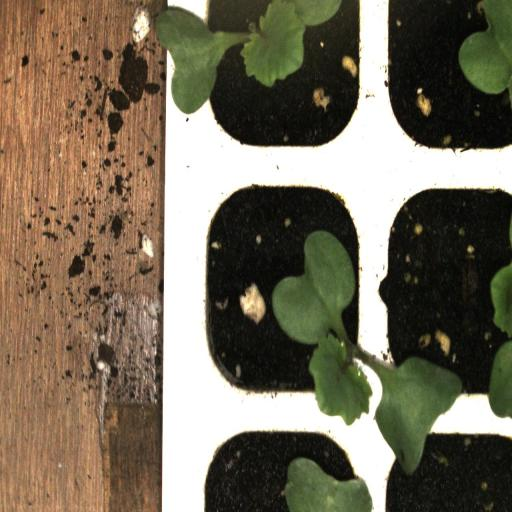seedling: (186, 166, 377, 421), (186, 0, 373, 167)
